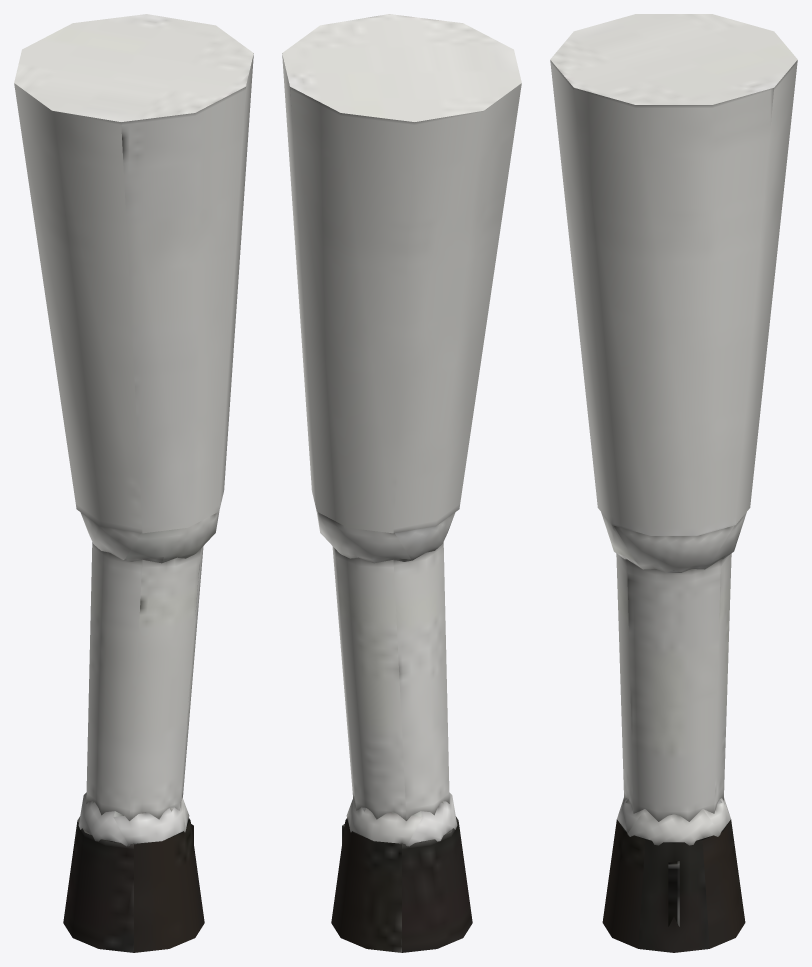
Rendered from vaca_pata.glb.
3 views of the same model, side by side, from view 1: azimuth 30°, elevation 25°; view 2: azimuth 150°, elevation 25°; view 3: azimuth 270°, elevation 25° (orthographic).
Visible parts, largest first — view 1: vaca_pata; view 2: vaca_pata; view 3: vaca_pata.
Part boxes in pixels (box(x1,y1,x2,y2)): vaca_pata: box(14, 14, 253, 952); vaca_pata: box(282, 14, 521, 952); vaca_pata: box(550, 14, 797, 952).
Size of the model in its own units: 0.2471 by 1 by 0.26.
1 material, 1 textured.
